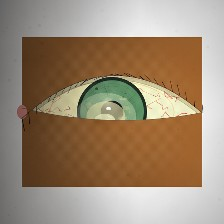corneal_ulcer: (74, 92, 138, 142)
